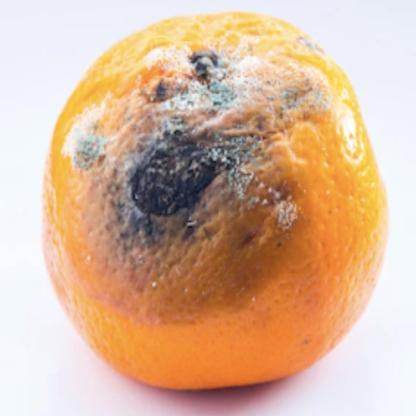rotten: (41, 14, 390, 388)
